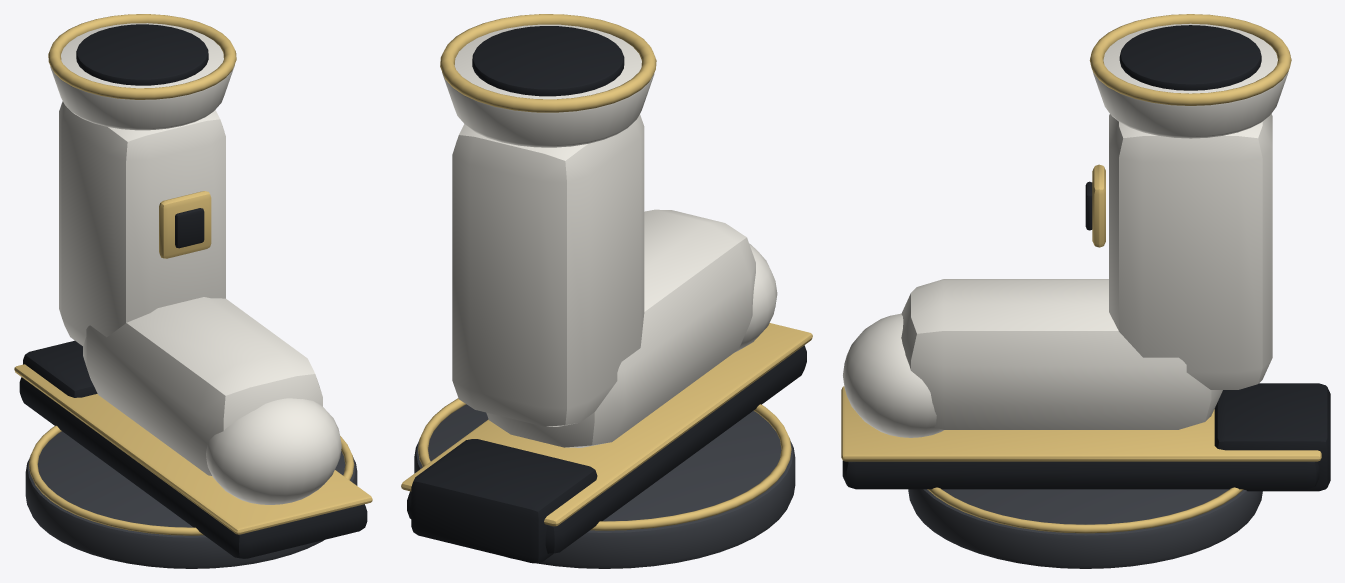
The model's file is boot.glb.
3 views of the same model, side by side, from view 1: azimuth 30°, elevation 25°; view 2: azimuth 150°, elevation 25°; view 3: azimuth 270°, elevation 25° (orthographic). The views are drawn at different scales.
Visible parts, largest first — view 1: TOKEN_BODY, TOKEN_DETAILS, TOKEN_BASE; view 2: TOKEN_BODY, TOKEN_DETAILS, TOKEN_BASE; view 3: TOKEN_BODY, TOKEN_DETAILS, TOKEN_BASE.
Boxes of the visible parts, x1,y1,x2,y2 form: TOKEN_BODY: (50, 23, 341, 504); TOKEN_DETAILS: (14, 14, 372, 558); TOKEN_BASE: (25, 431, 357, 568); TOKEN_BODY: (442, 24, 777, 447); TOKEN_DETAILS: (401, 14, 812, 563); TOKEN_BASE: (414, 404, 795, 568); TOKEN_BODY: (843, 23, 1288, 437); TOKEN_DETAILS: (841, 14, 1330, 533); TOKEN_BASE: (908, 489, 1262, 568).
Size of the model in its own units: 0.26 by 0.358 by 0.3585.
